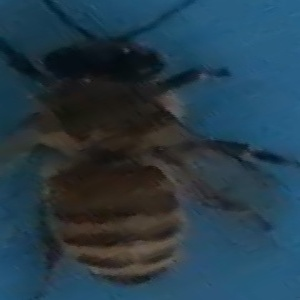bee: (3, 3, 293, 300)
